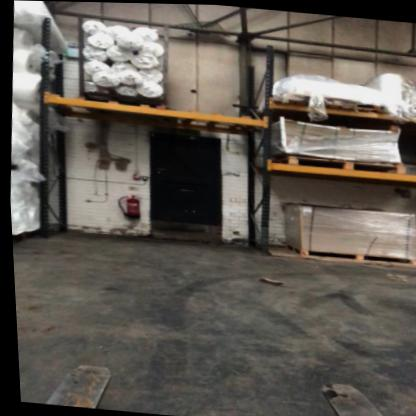vertical_damage: (253, 215, 276, 236)
